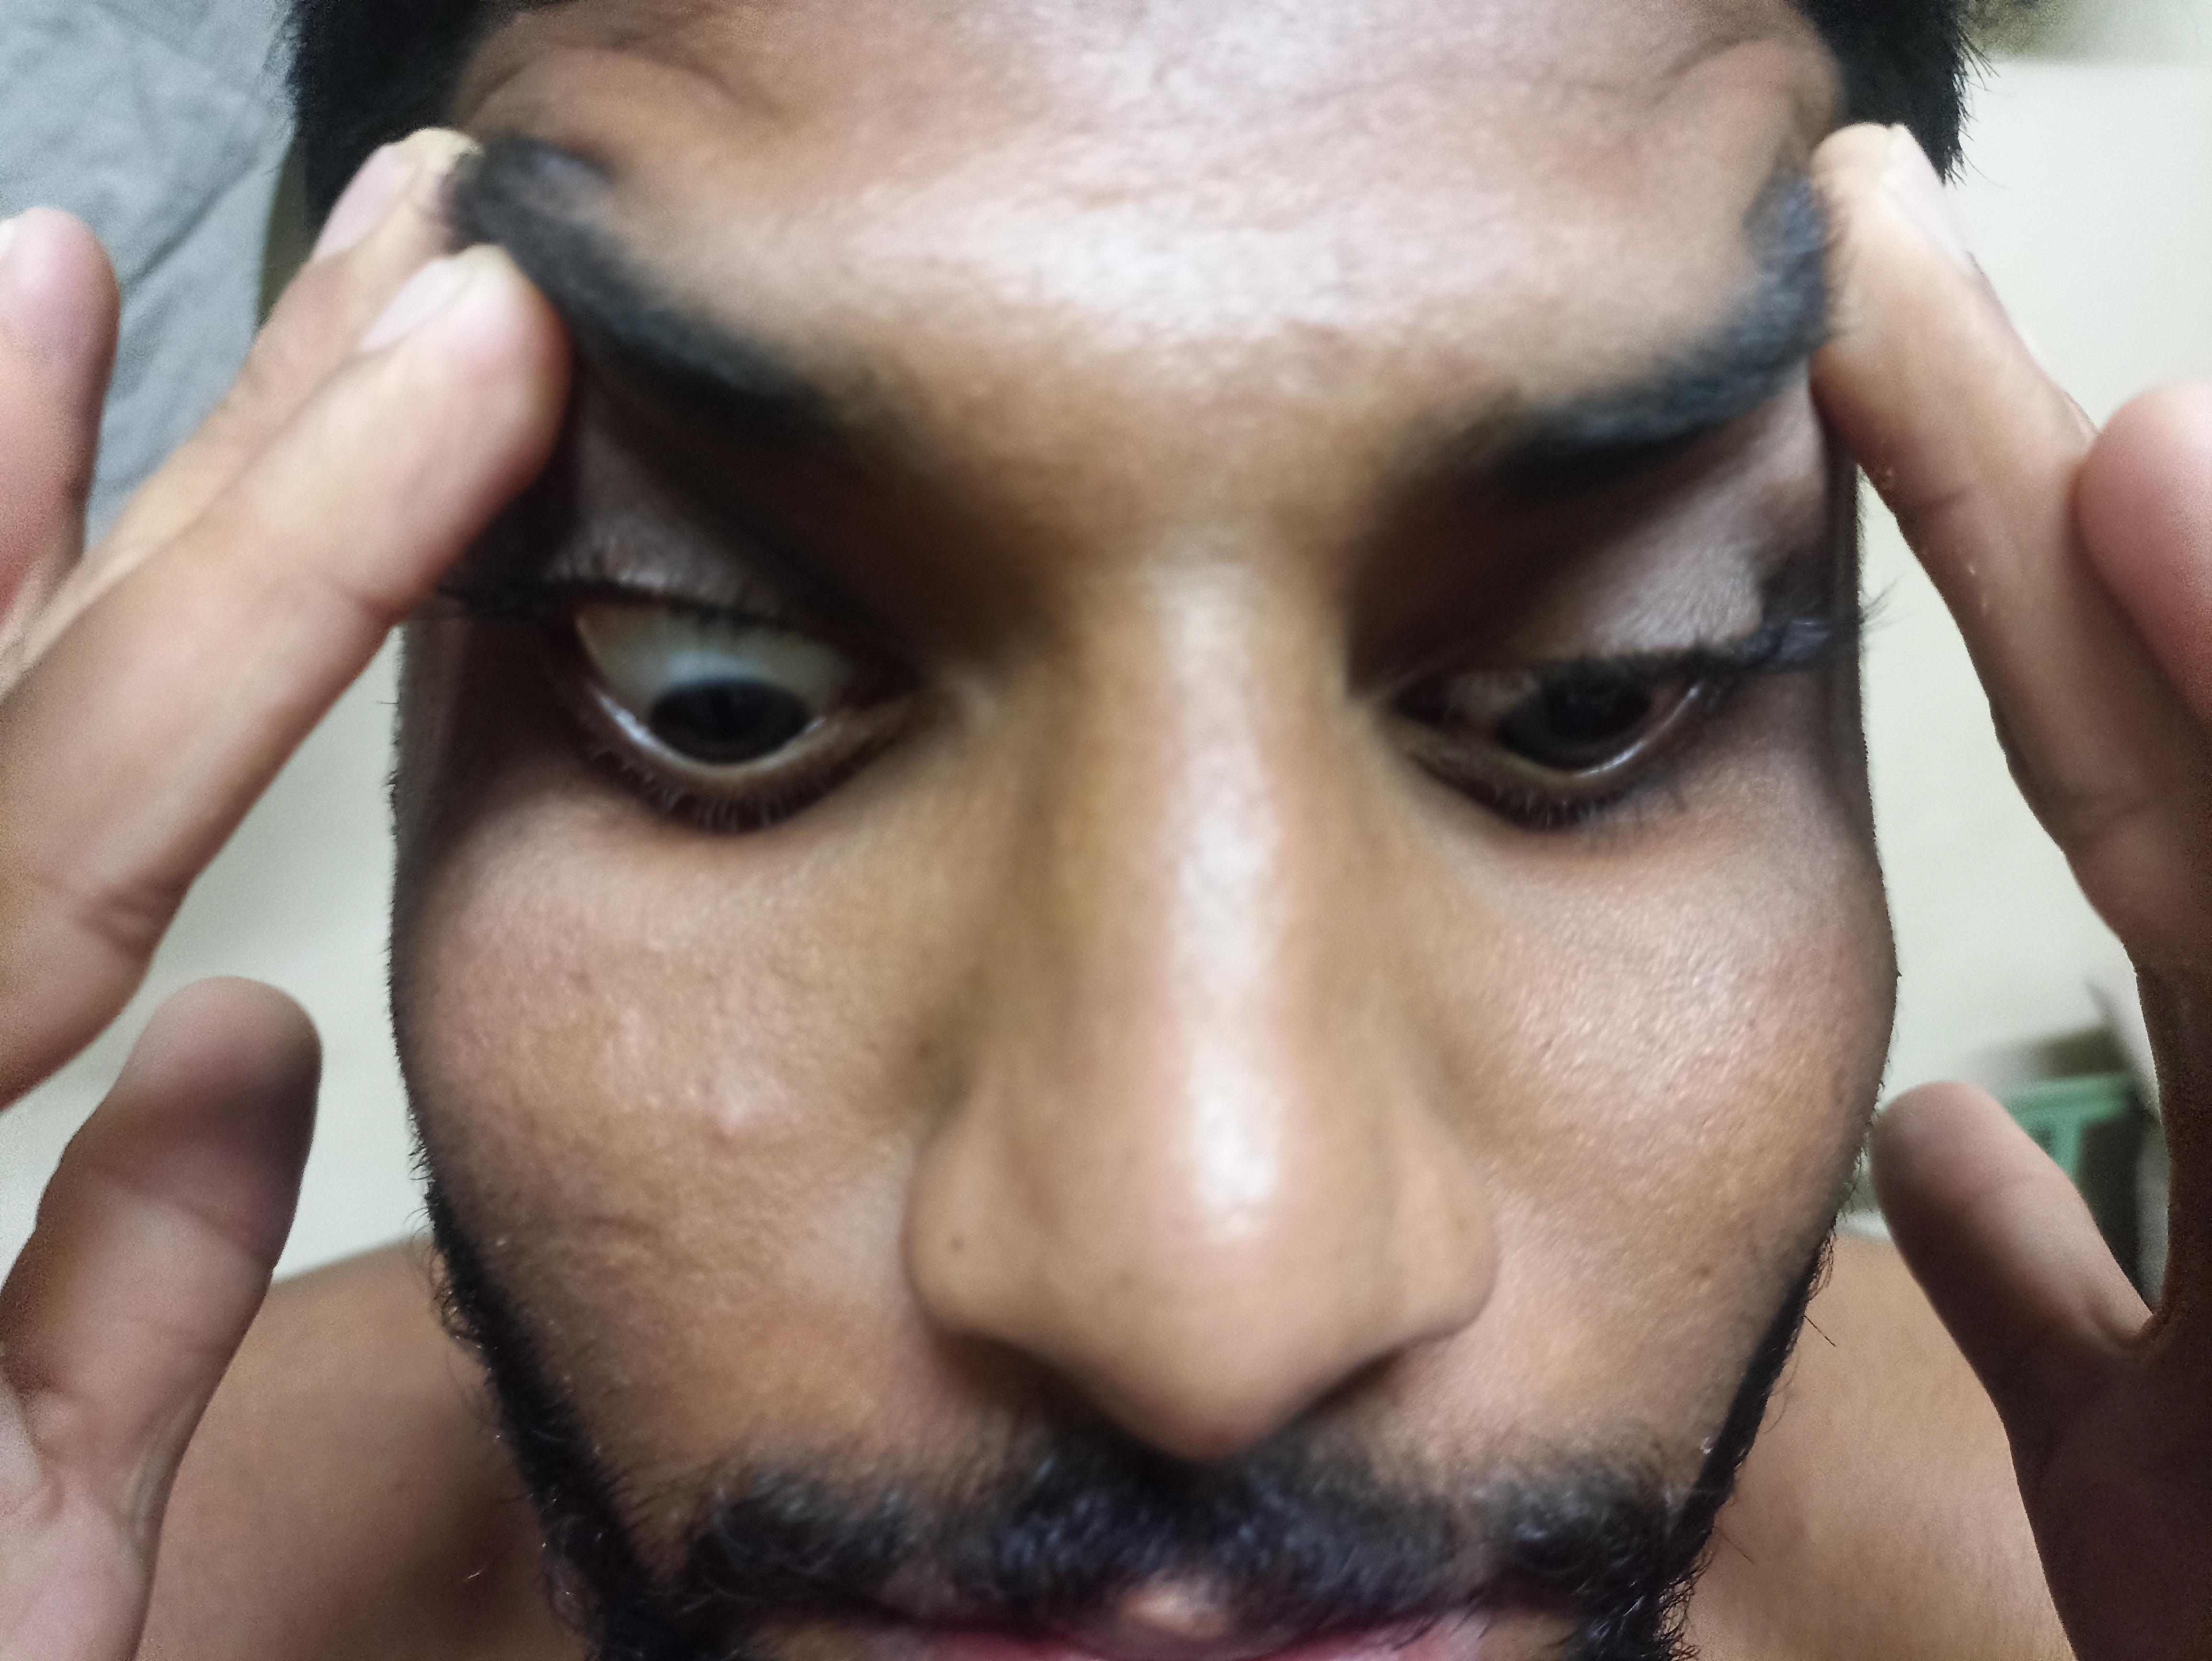EYE DOWN: (1280, 318, 1942, 918), (386, 319, 1022, 911)
